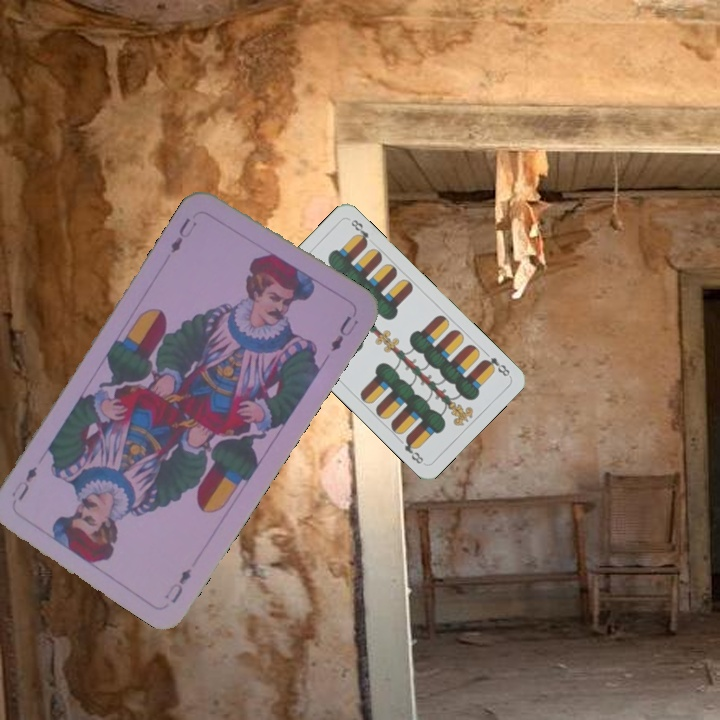E8: (478, 353, 512, 379)
EU: (160, 564, 195, 606), (166, 213, 200, 256)
